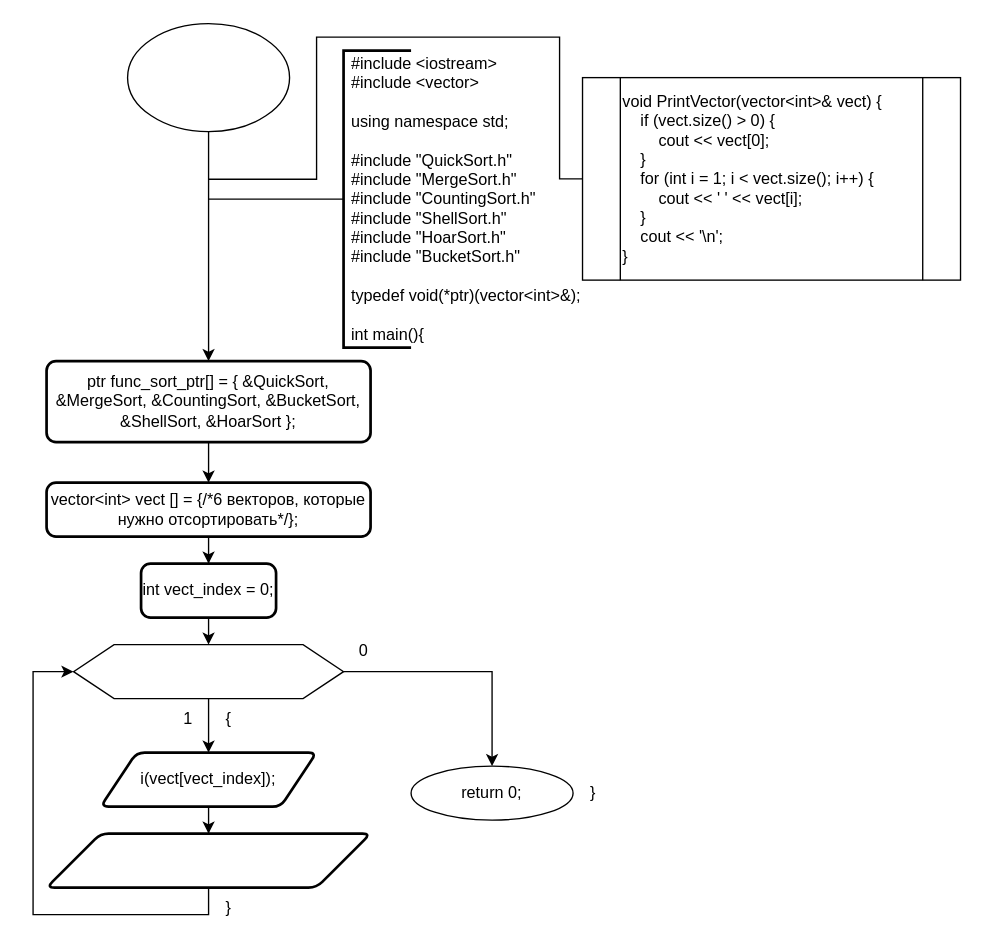
Image size: 984x952. Some labels were removed from this diagram. Here are the shapes that lost their labels. From the top down, the centre of each, then its label:
At [208,77]: "start".
At [208,671]: "for (ptr i : func_sort_ptr)".
At [208,860]: "PrintVector(vect[vect_index++]);".
